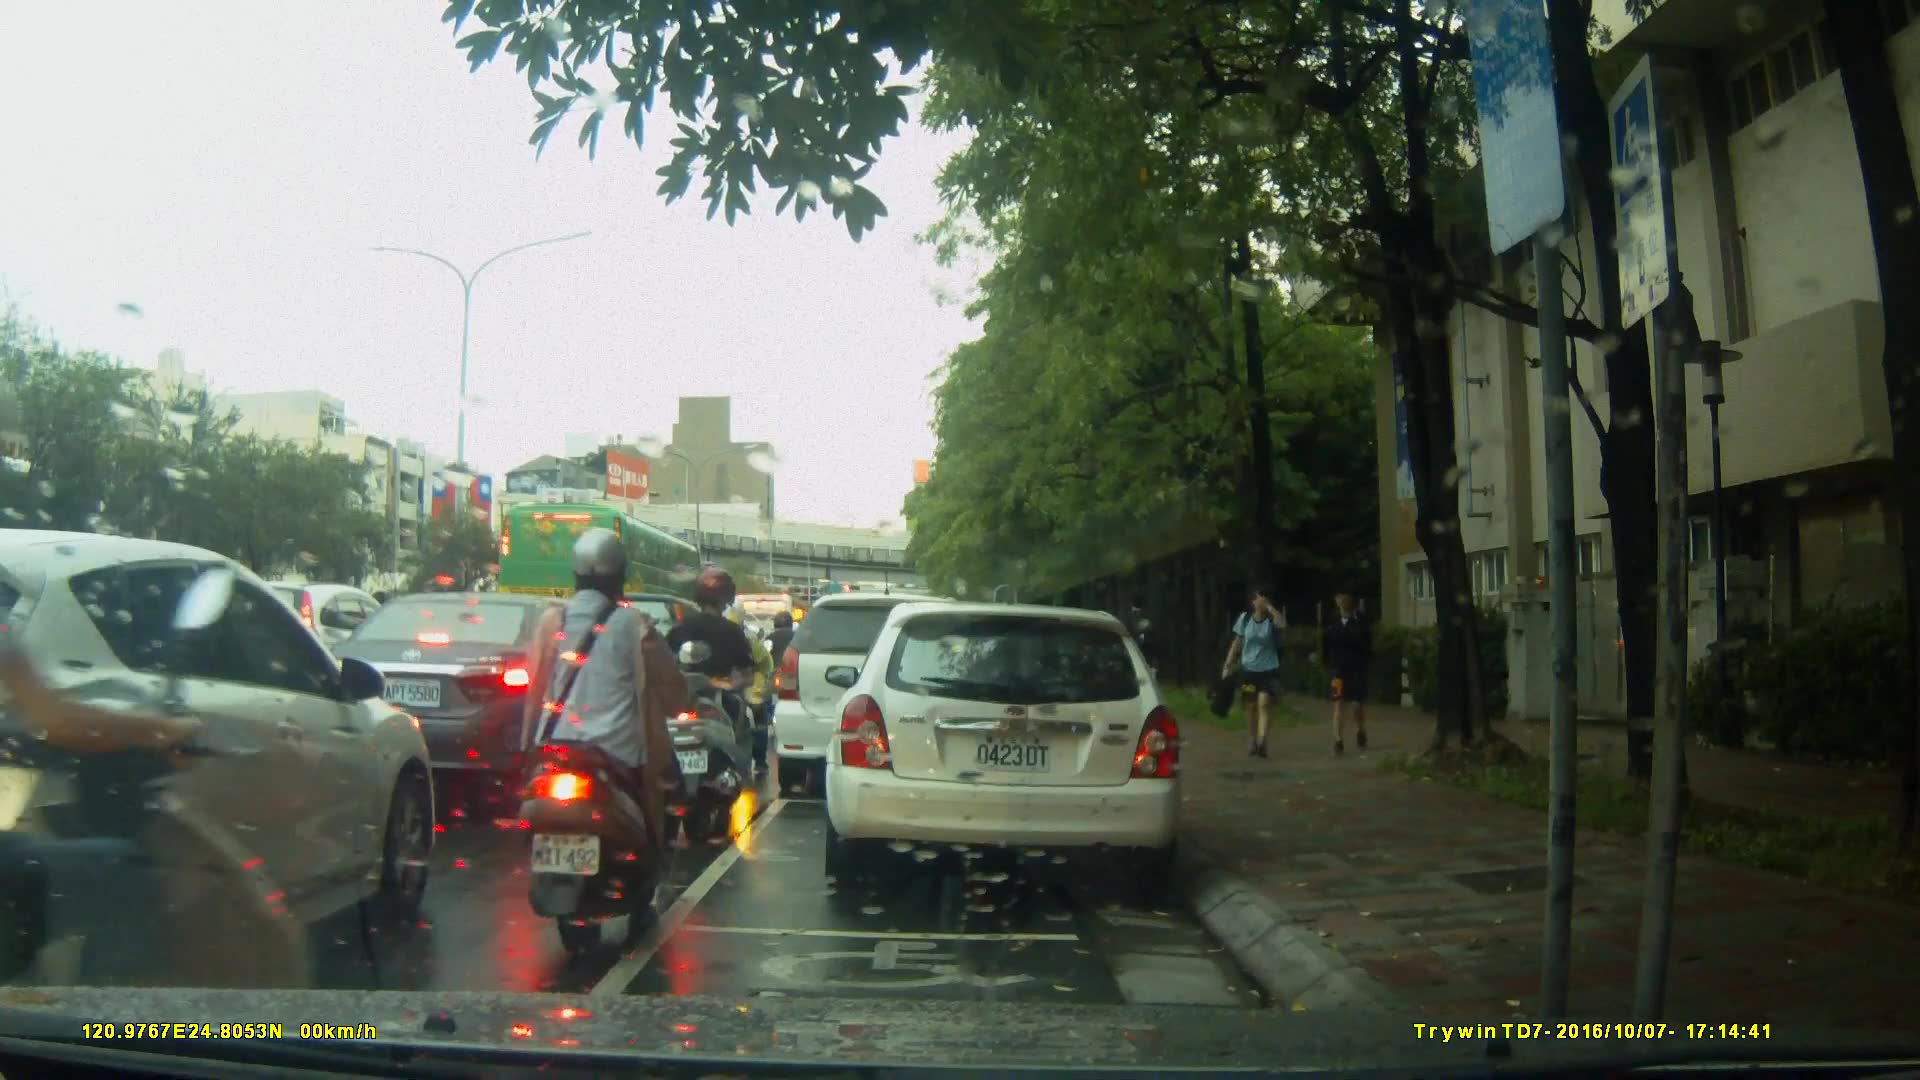pedestrian: (1210, 581, 1322, 762), (1318, 574, 1390, 764), (1123, 596, 1163, 725)
rider: (1, 389, 328, 1080), (517, 529, 679, 956), (650, 569, 752, 830), (705, 597, 773, 773), (757, 610, 812, 749)
vehicle: (1, 528, 446, 987), (831, 592, 1196, 897), (312, 590, 639, 806), (770, 592, 999, 802), (495, 500, 707, 637)
